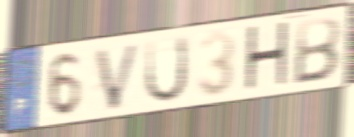3: (196, 27, 238, 101)
6: (47, 50, 84, 119)
B: (290, 15, 343, 87)
H: (242, 19, 291, 97)
U: (142, 33, 191, 106)
V: (92, 40, 143, 113)
